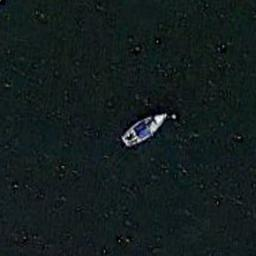boat: (120, 112, 169, 147)
